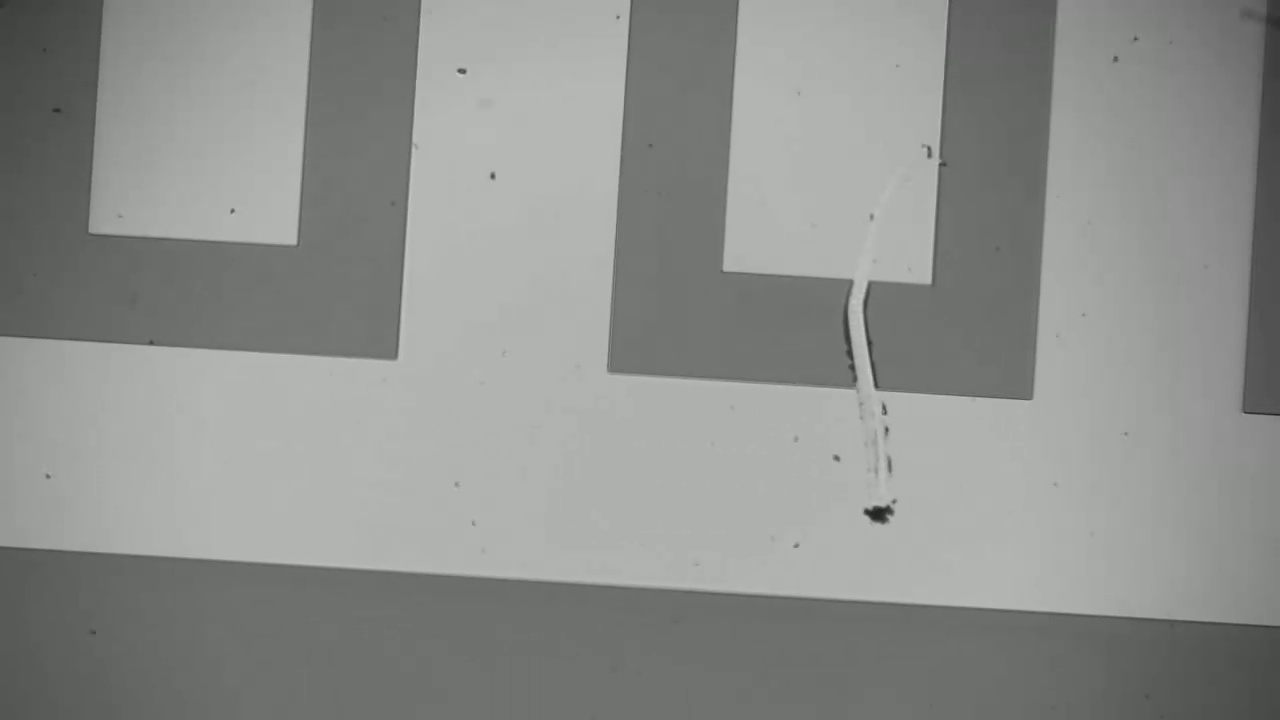Short_circuit: (813, 259, 899, 408)
